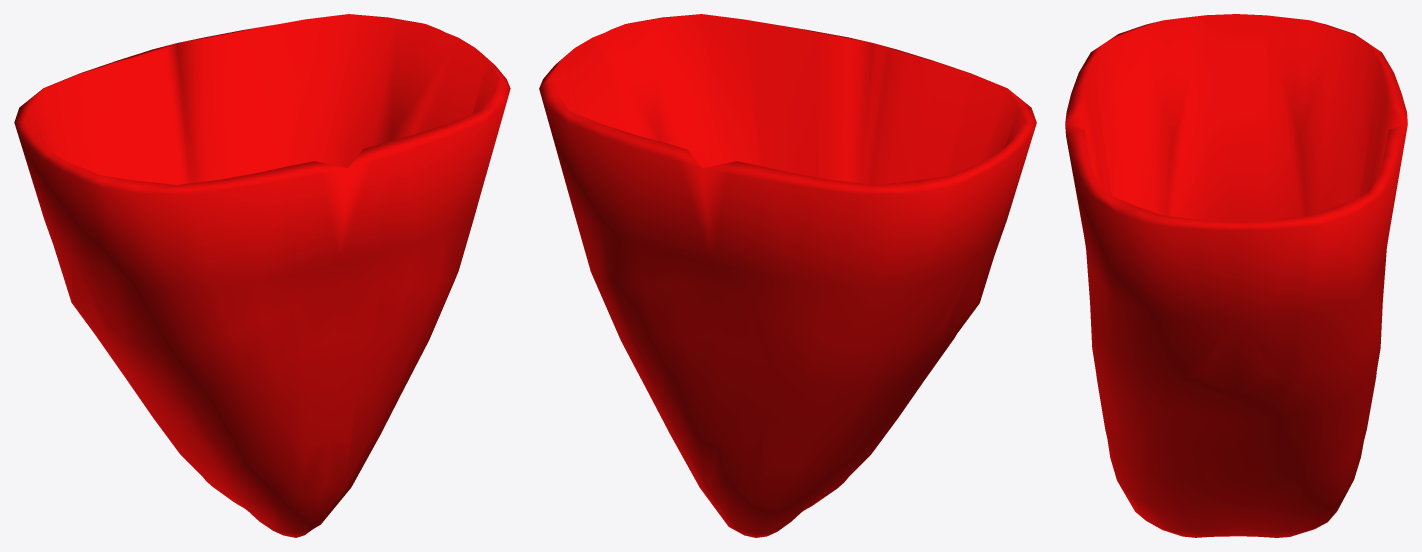
Rendered from HeartCup.fbx.
The picture shows the model from 3 angles, left to right: view 1: azimuth 30°, elevation 25°; view 2: azimuth 150°, elevation 25°; view 3: azimuth 270°, elevation 25°; orthographic projection.
Visible parts, largest first — view 1: HeartCup; view 2: HeartCup; view 3: HeartCup.
Part boxes in pixels (x1,y1,x2,y2): HeartCup: (14,14,510,537); HeartCup: (539,14,1036,537); HeartCup: (1065,14,1407,537).
Bounding box in the file's own units: 283 × 258 × 191.
